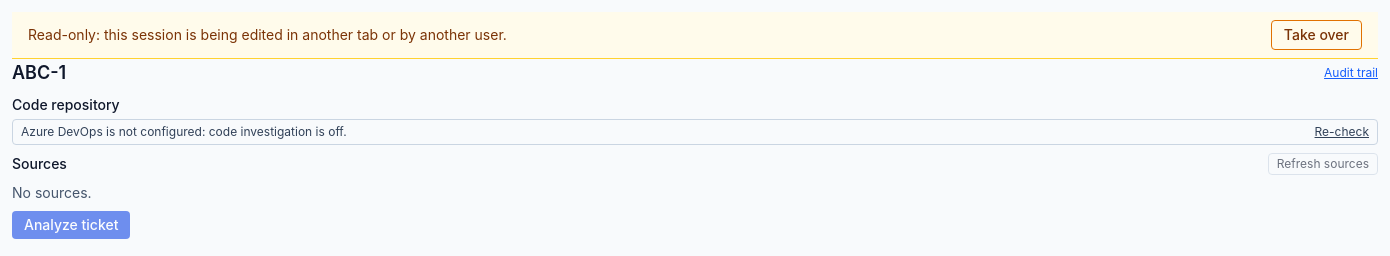
it: workspace session lock › ?analyze=1 in a read-only tab starts no analysis, removes the parameter and disables Analyze ticket
Check: the button "Analyze ticket" is disabled, box x1=12 y1=211 x2=130 y2=239
Check: the button "Refresh sources" is disabled, box x1=1268 y1=153 x2=1378 y2=175
Note: Taking over later does not start it either: the parameter was consumed.
Click the button "Take over" at (1316, 35), box x1=1271 y1=20 x2=1362 y2=50
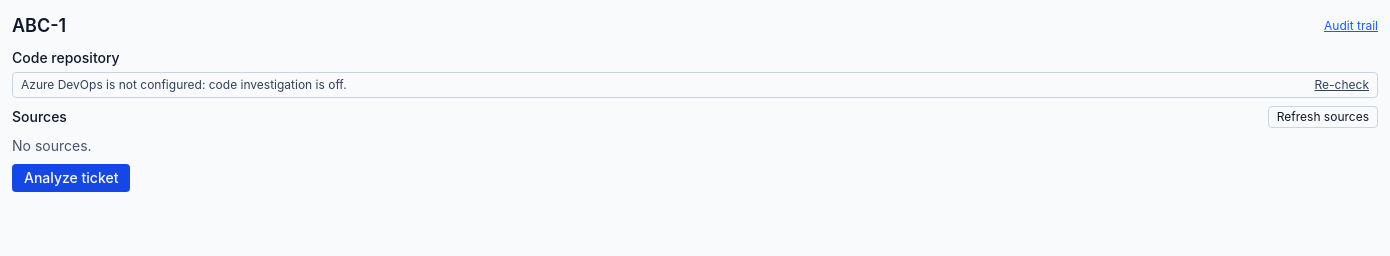
Check: the button "Analyze ticket" is enabled, box x1=12 y1=164 x2=130 y2=192
